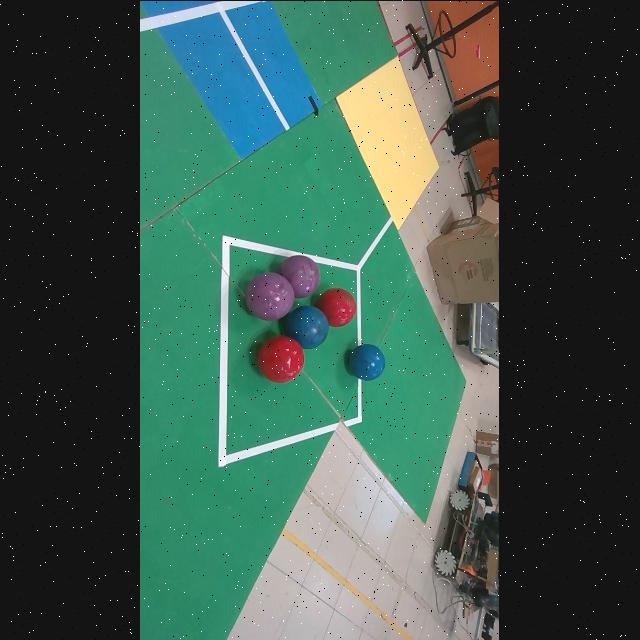B: (285, 305, 330, 348), (348, 343, 386, 380)
P: (246, 272, 295, 319), (278, 255, 321, 297)
R: (259, 334, 305, 382), (317, 287, 358, 326)
